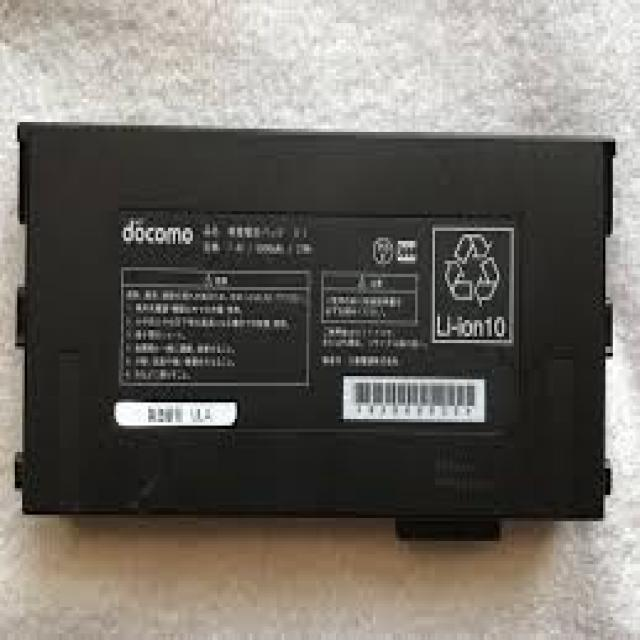battery: (18, 120, 616, 546)
